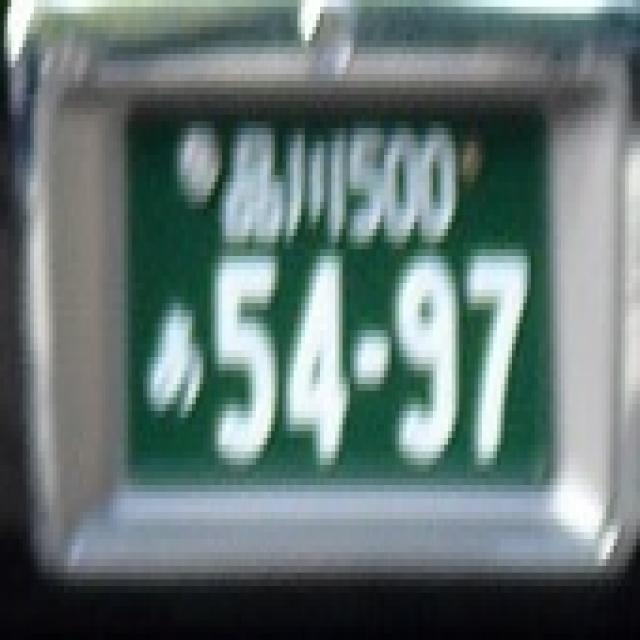licenseplate: (112, 84, 580, 521)
